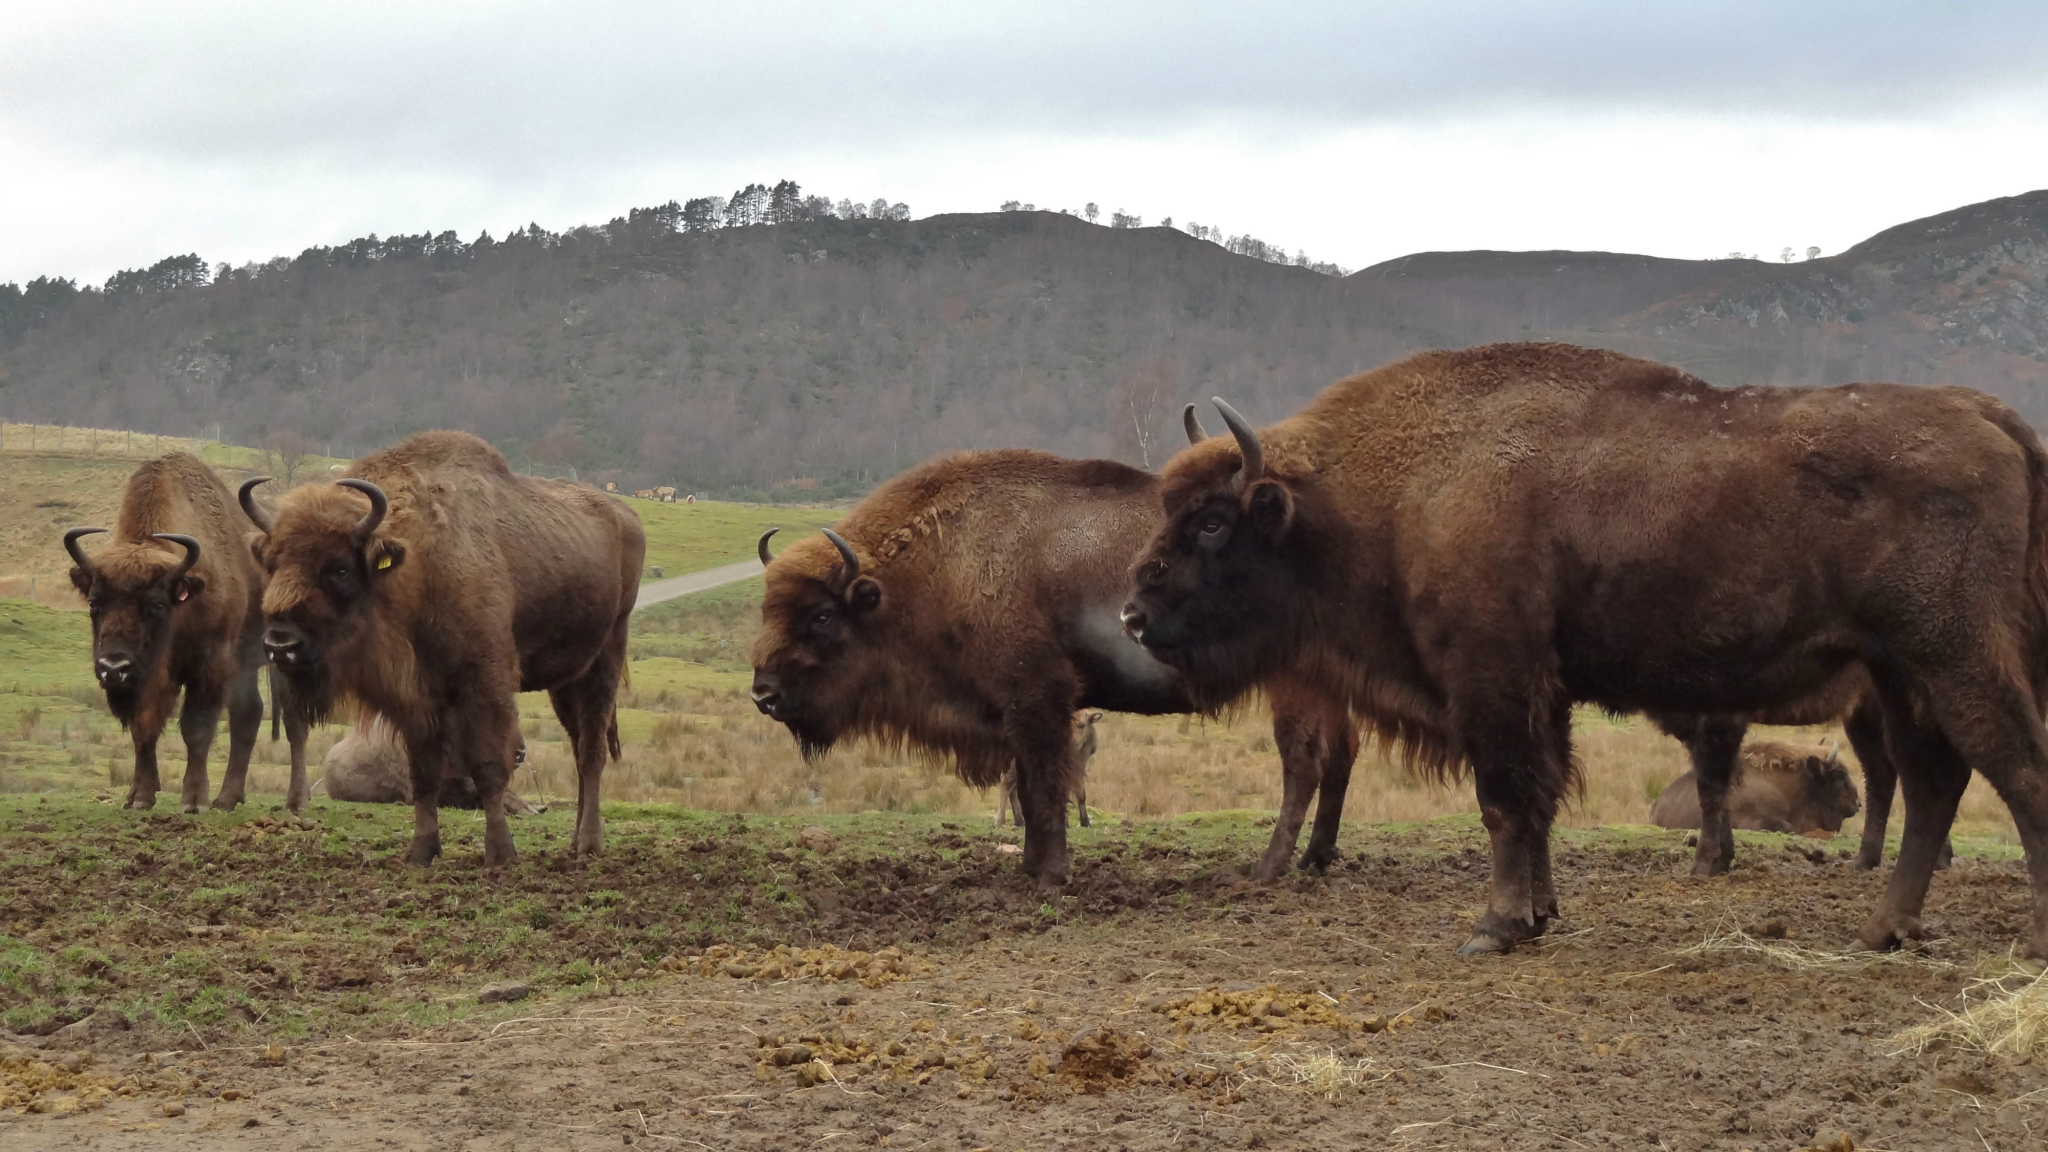zubr: (1087, 231, 2048, 927), (222, 326, 710, 897), (745, 347, 1122, 958), (45, 399, 260, 827)
